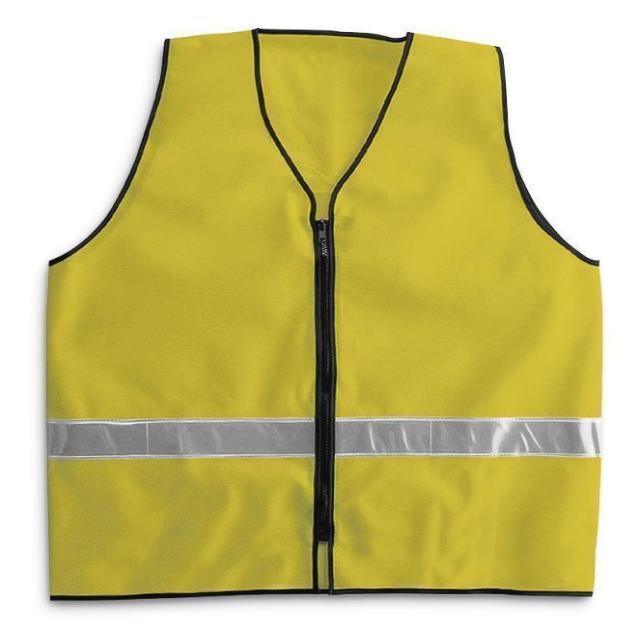Vest: (42, 18, 605, 603)
